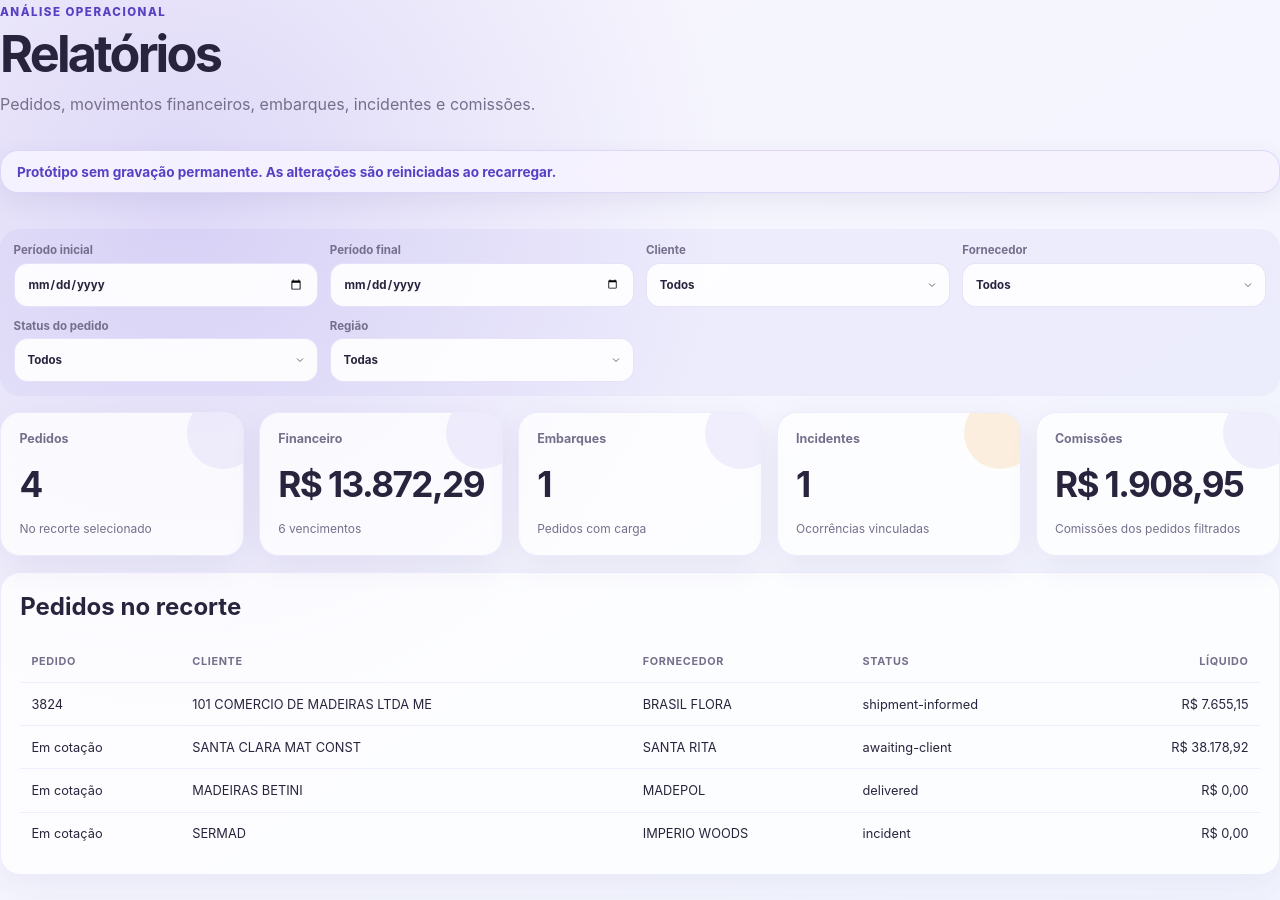
relatórios operacionais › aplica a região da parte relacionada aos pedidos e resumos
Select "Norte do Espírito Santo" in the dropdown labelled "Região" at (482, 360), box [330,338,634,382]
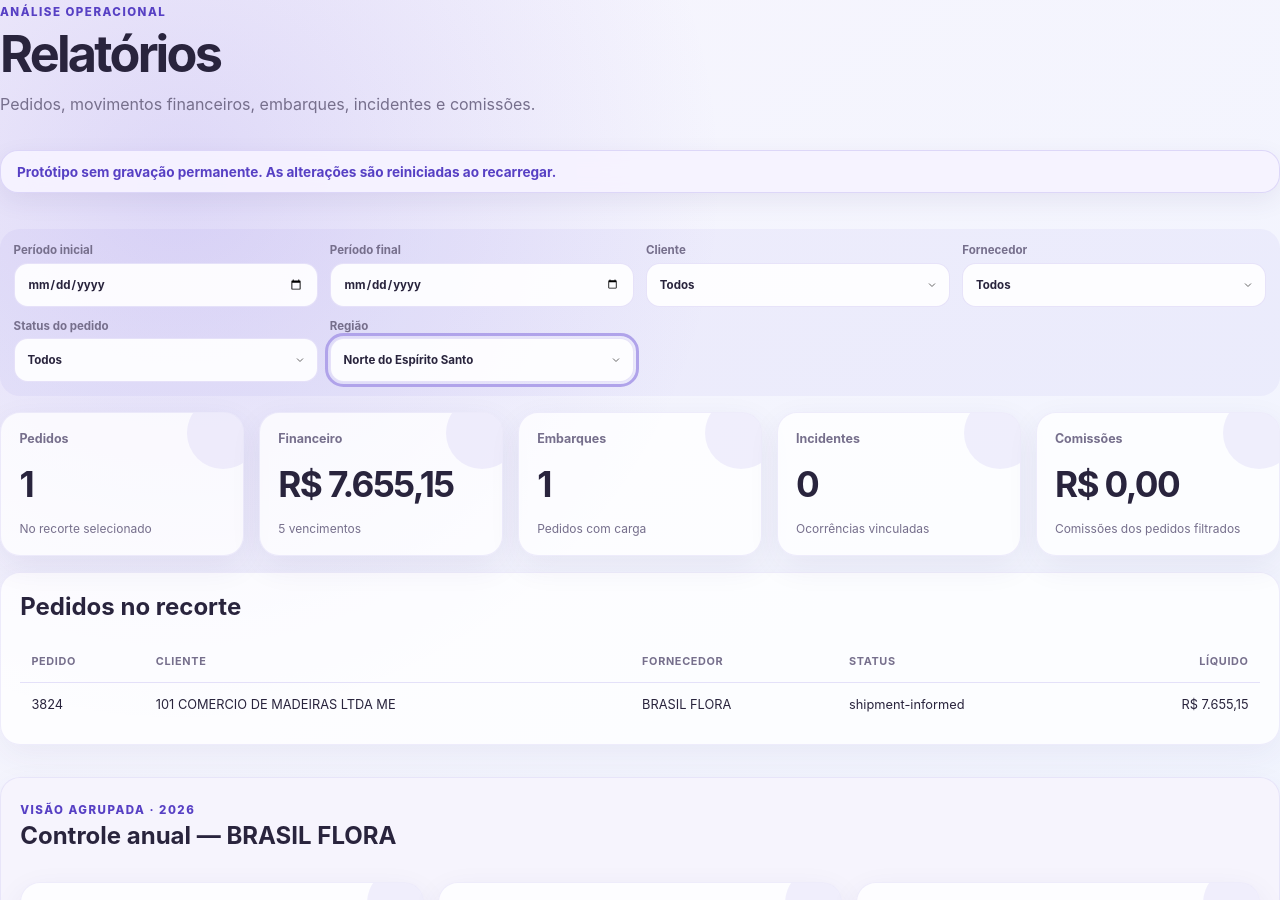
Result: the 1st text "1" is shown at [19,463,33,505]
Result: the text "R$ 7.655,15" is shown at [278,463,484,505]
